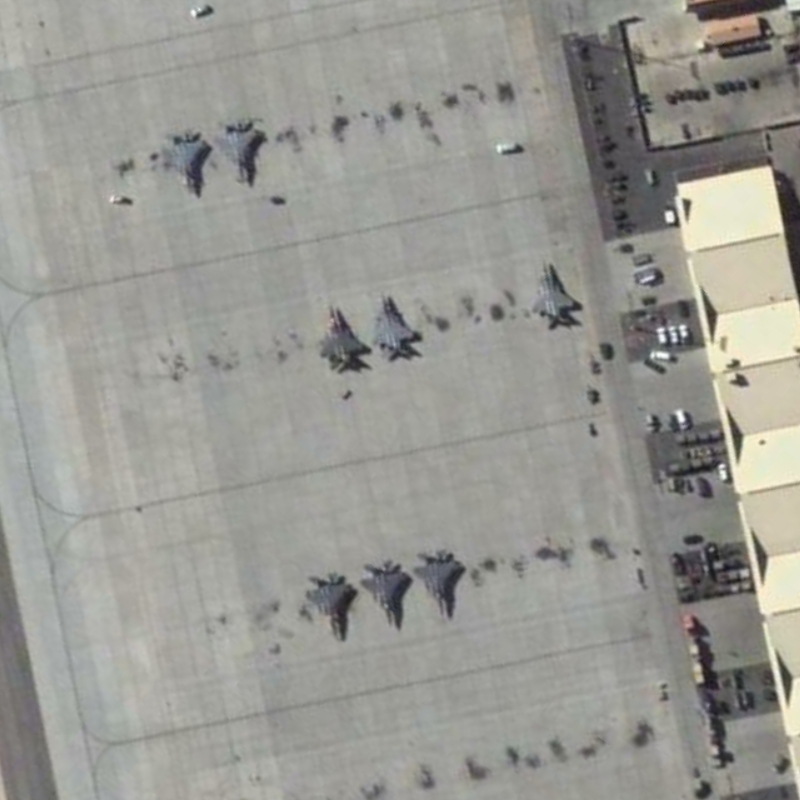A13: (407, 541, 478, 624), (299, 565, 360, 650), (527, 255, 590, 337), (352, 553, 415, 632), (365, 291, 427, 365), (213, 113, 271, 191), (154, 125, 215, 199), (314, 297, 369, 377)
